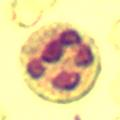neutrophil: (17, 22, 108, 104)
